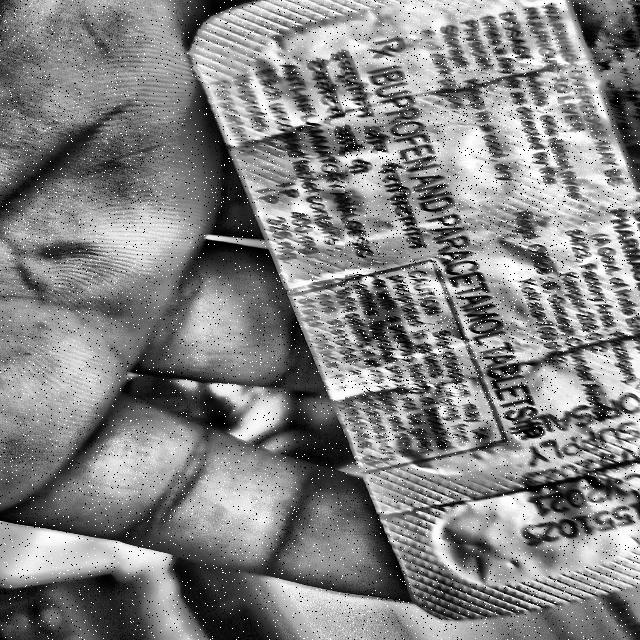IBUPROFEN AND PARACETAMOL TABLETS: (345, 59, 557, 444)
